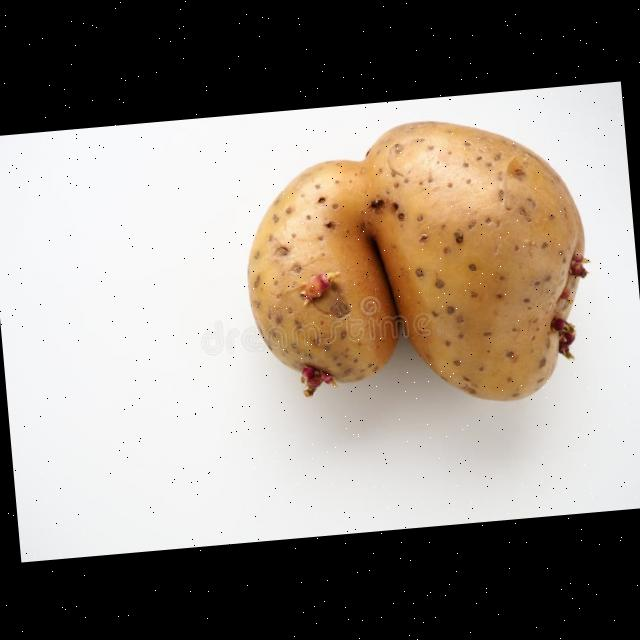Sprouted potato: (220, 102, 607, 430)
